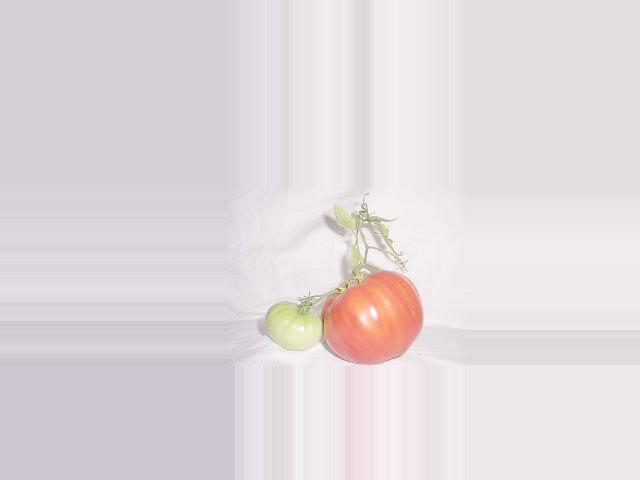tomato: (320, 270, 423, 364)
